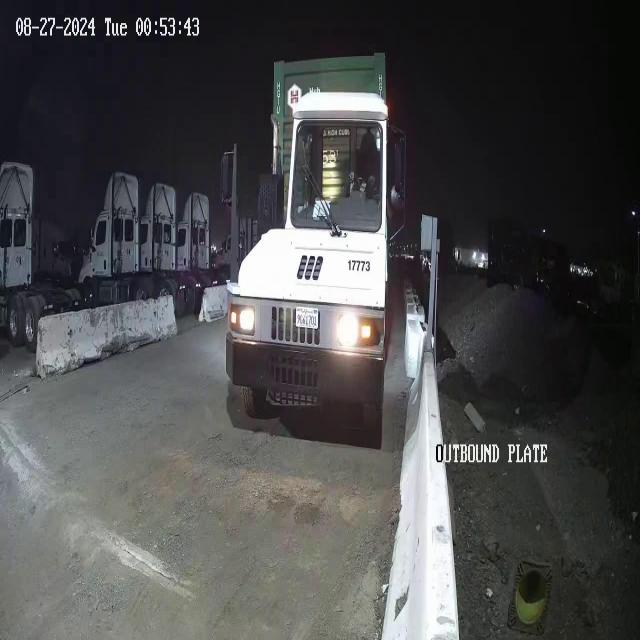TRUCK_CONTAINER: (224, 52, 410, 435)
